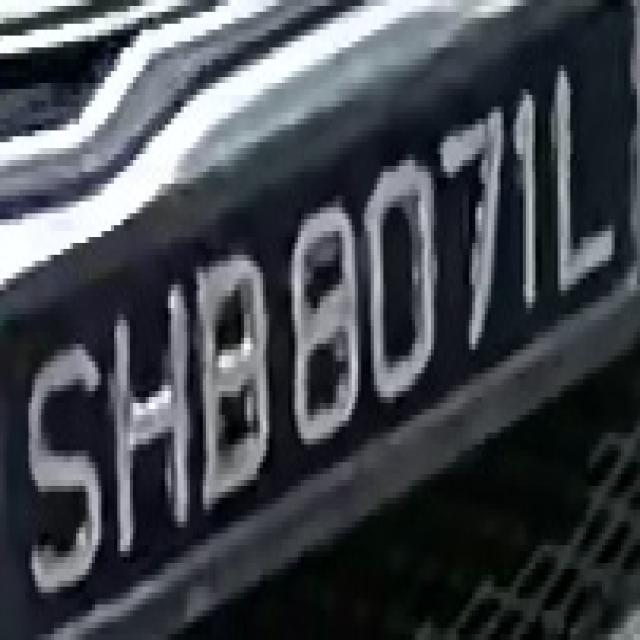0: (352, 154, 446, 421)
1: (510, 71, 548, 344)
7: (428, 101, 513, 367)
8: (279, 196, 377, 456)
B: (187, 243, 276, 521)
H: (102, 290, 196, 563)
L: (548, 36, 612, 296)
S: (22, 326, 108, 610)
